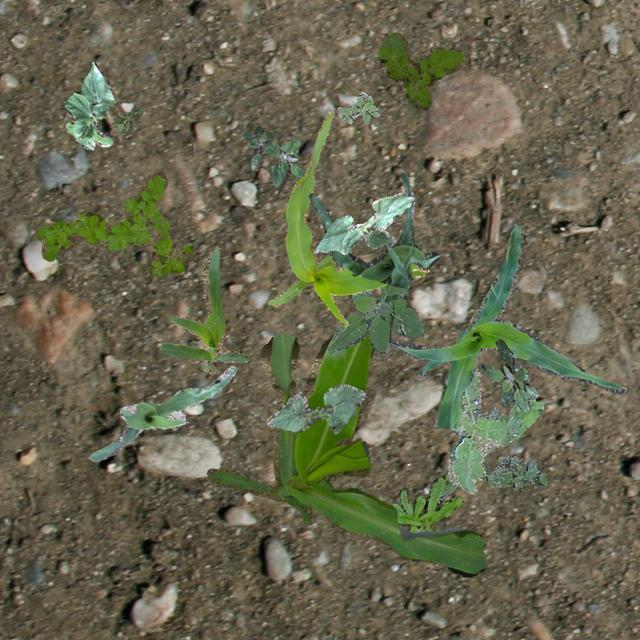crop: (207, 330, 486, 576), (388, 222, 624, 428), (266, 110, 424, 326), (307, 172, 438, 286), (88, 364, 235, 460), (160, 244, 248, 374), (312, 192, 413, 254), (264, 382, 364, 432), (64, 60, 114, 148)
weed: (34, 168, 194, 276), (448, 362, 542, 494), (326, 282, 424, 354), (378, 32, 468, 110), (438, 448, 546, 498), (478, 338, 538, 412), (390, 476, 460, 532), (264, 138, 302, 186), (338, 90, 380, 124), (242, 124, 272, 168), (110, 108, 142, 132)
